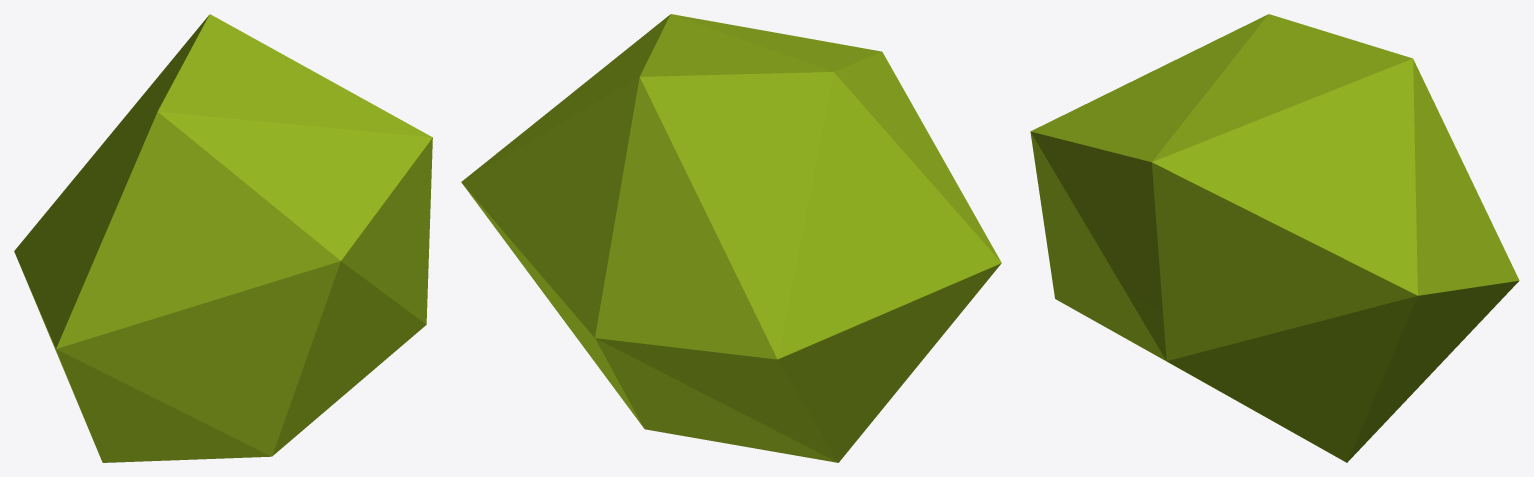
File: Vegetation_Modular_Tree_Foliage_Clump_Small_02.fbx
The picture shows the model from 3 angles, left to right: view 1: azimuth 30°, elevation 25°; view 2: azimuth 150°, elevation 25°; view 3: azimuth 270°, elevation 25°; orthographic projection. The views are drawn at different scales.
Visible parts, largest first — view 1: Vegetation_Modular_Tree_Foliage_Clump_Small_02; view 2: Vegetation_Modular_Tree_Foliage_Clump_Small_02; view 3: Vegetation_Modular_Tree_Foliage_Clump_Small_02.
Boxes of the visible parts, x1,y1,x2,y2 form: Vegetation_Modular_Tree_Foliage_Clump_Small_02: (14,14,432,462); Vegetation_Modular_Tree_Foliage_Clump_Small_02: (461,14,1001,462); Vegetation_Modular_Tree_Foliage_Clump_Small_02: (1030,14,1519,462).
Size of the model in its own units: 647 by 544 by 617.
